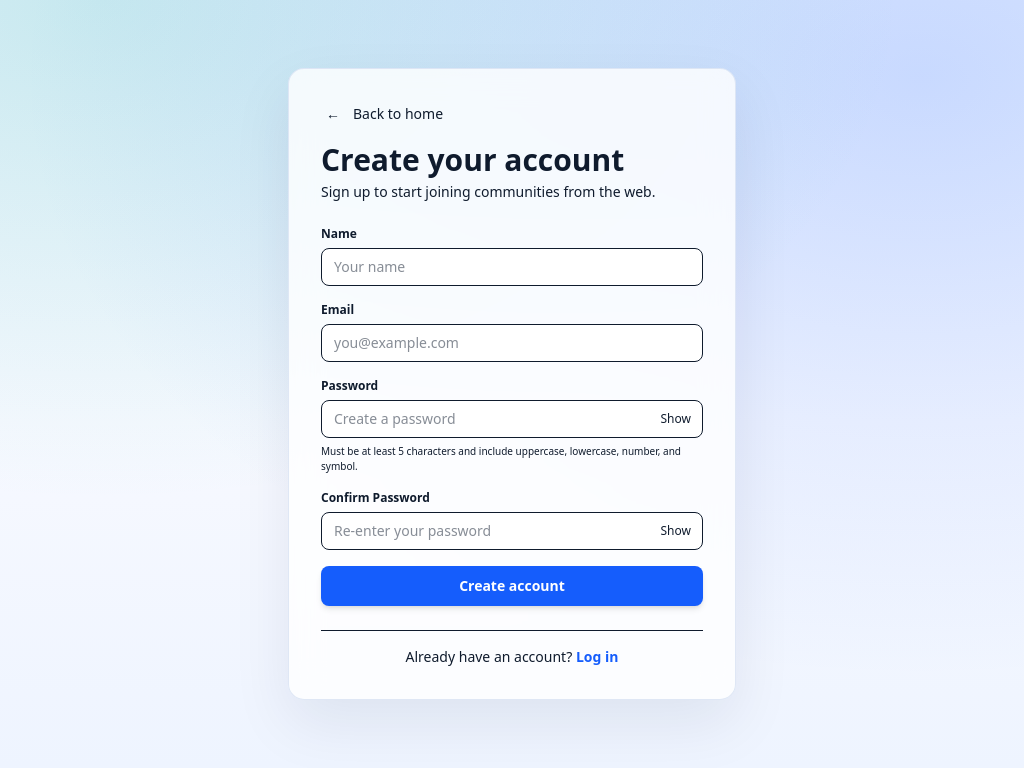
Test: Register page › shows mismatch error when confirmation differs
In the field labelled "Name": x=512, y=267 [321,248,703,286], type "John"
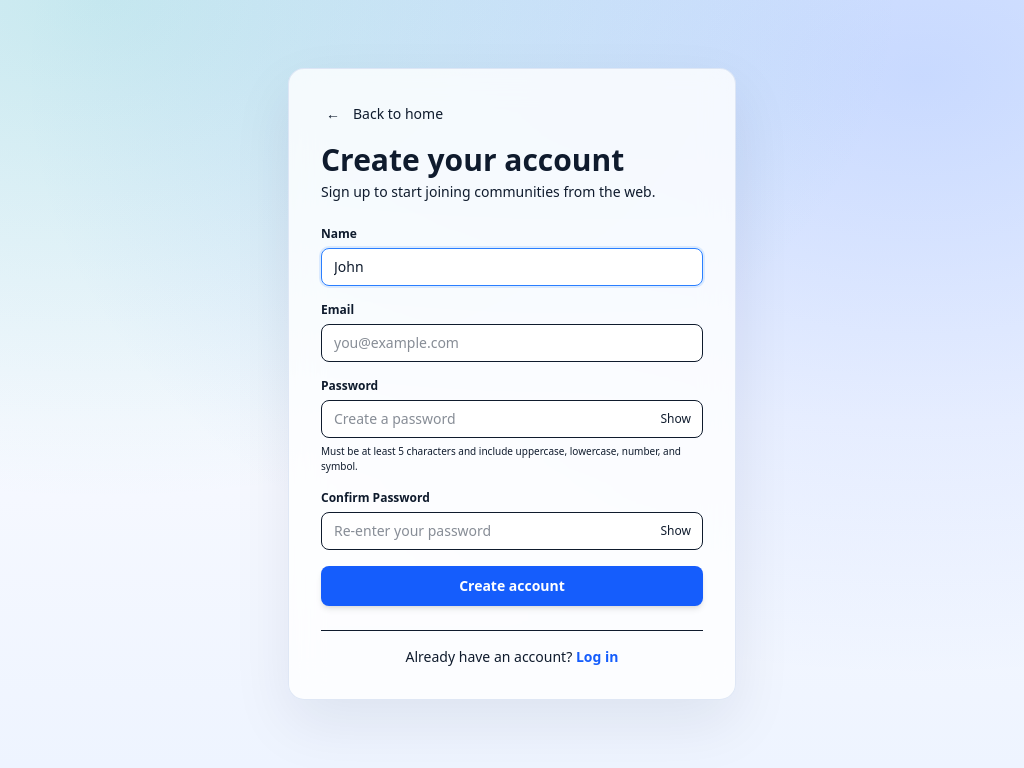
In the field labelled "Email": x=512, y=343 [321,324,703,362], type "john@example.com"
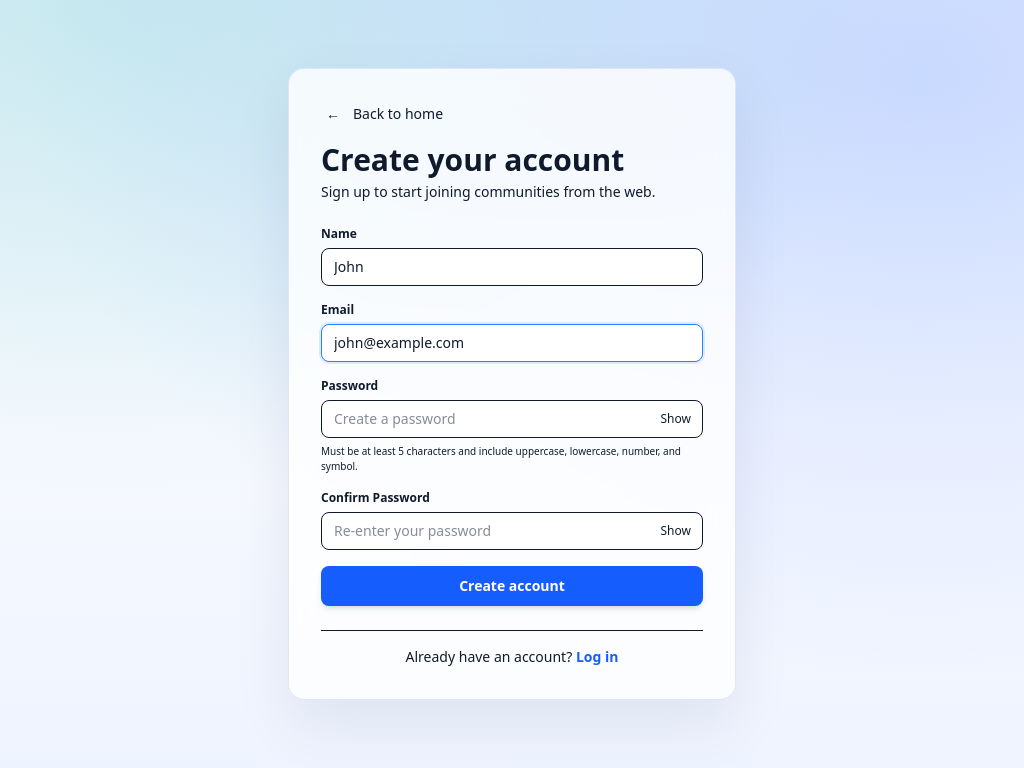
In the password field labelled "Password": x=512, y=419 [321,400,703,438], type "Strong1!"
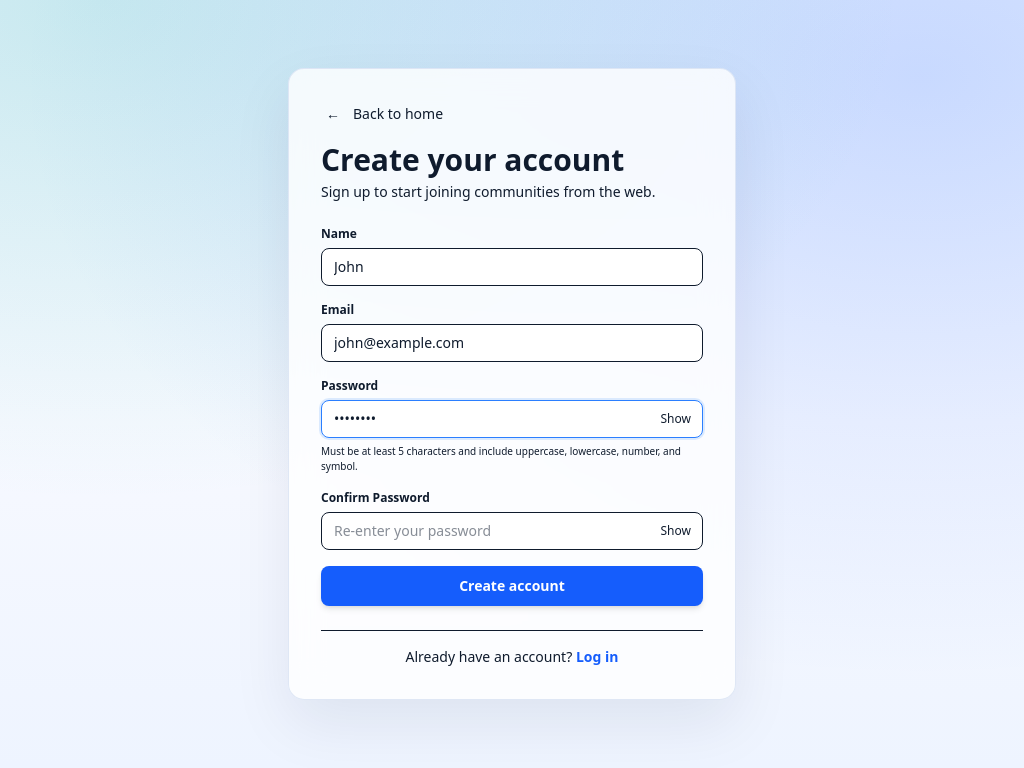
In the password field labelled "Confirm Password": x=512, y=531 [321,512,703,550], type "Strong2!"
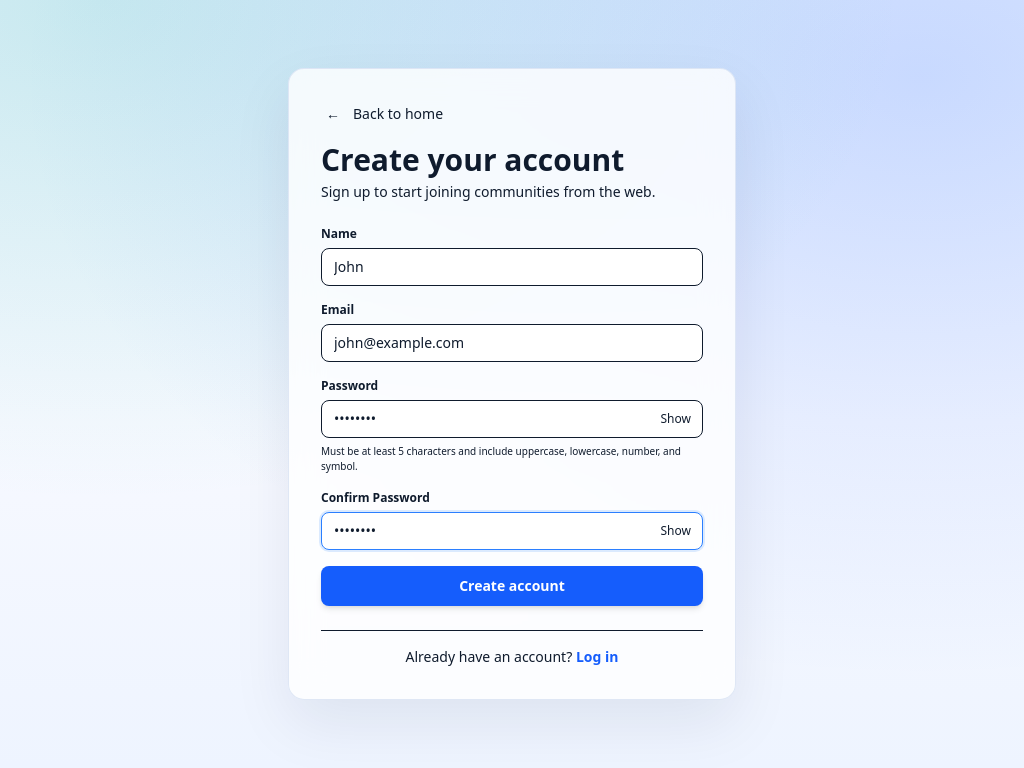
Click the button "Create account": x=512, y=586 [321,566,703,606]
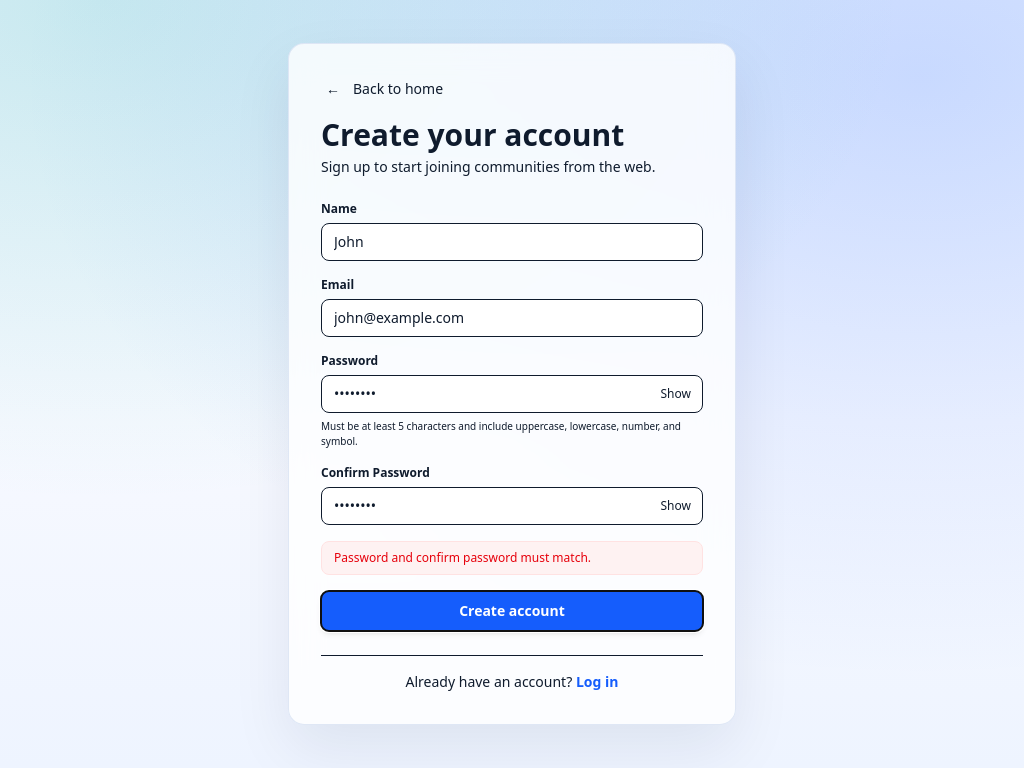
Now the text "Password and confirm password must match." is shown, box [321,541,703,575]
